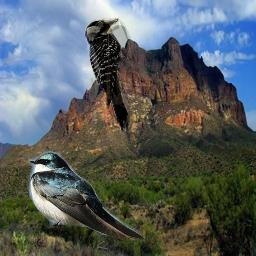Swallow: (28, 151, 145, 242)
Woodpecker: (84, 18, 141, 135)
